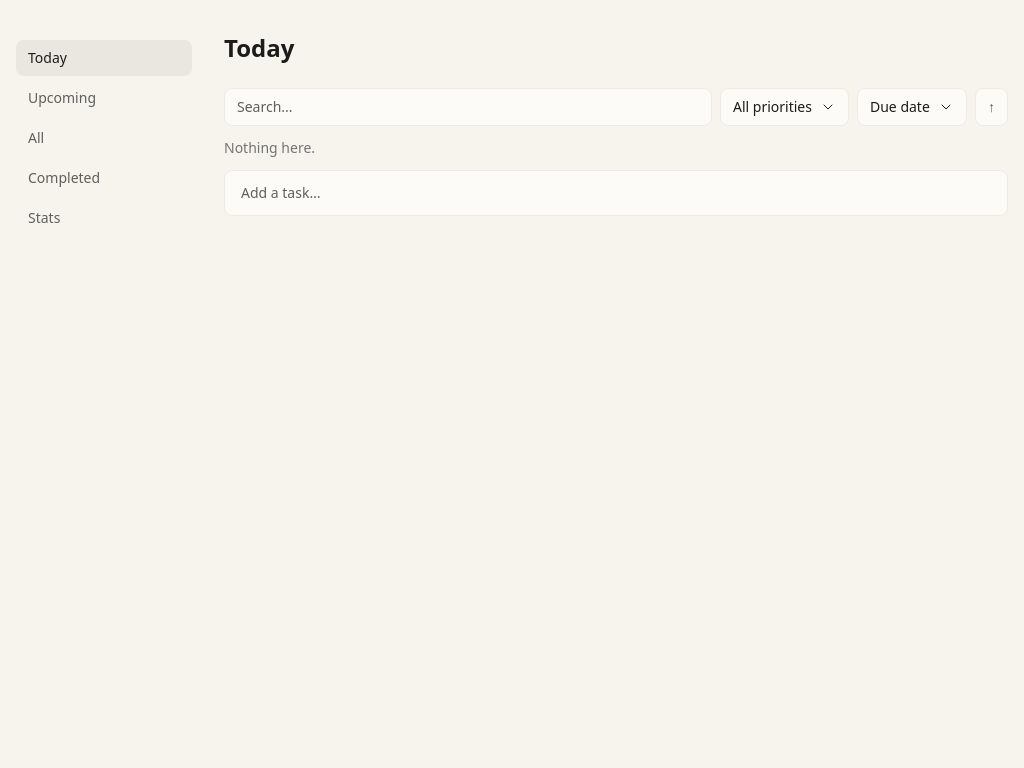
Test: Task CRUD › toggle → completed task moves to Completed view
# Navigate to All view and wait for the task
Click the button "All" at (104, 138), box 16,120 -> 192,156
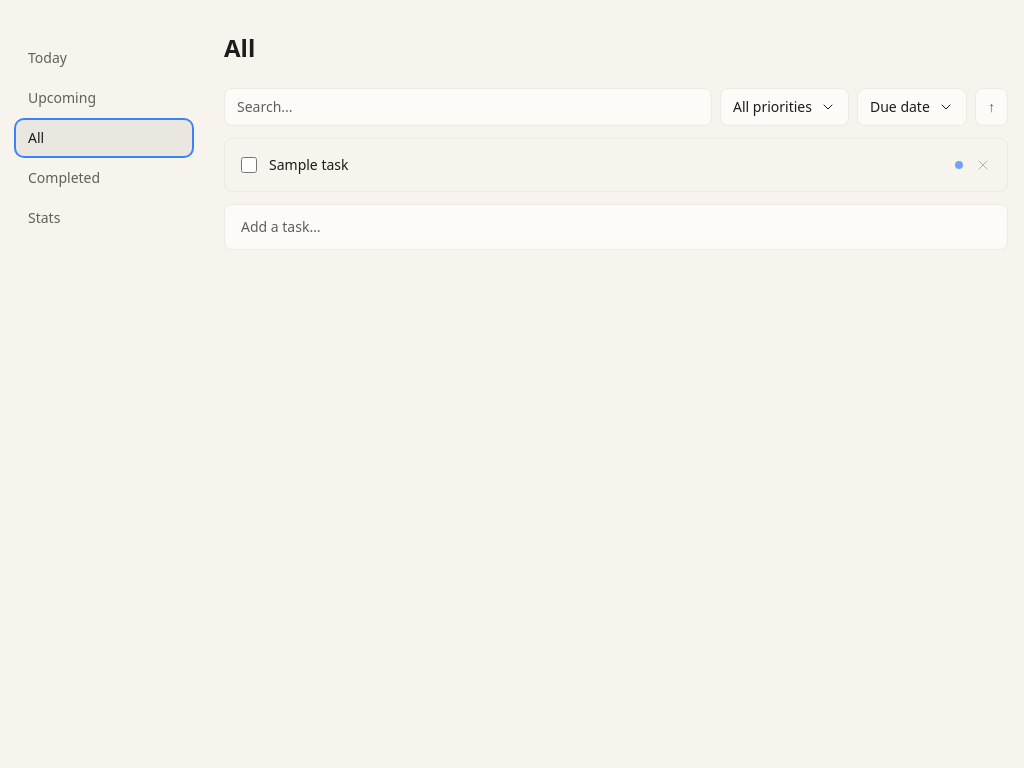
Click the checkbox named "sample task" at (249, 165), box 241,157 -> 257,173
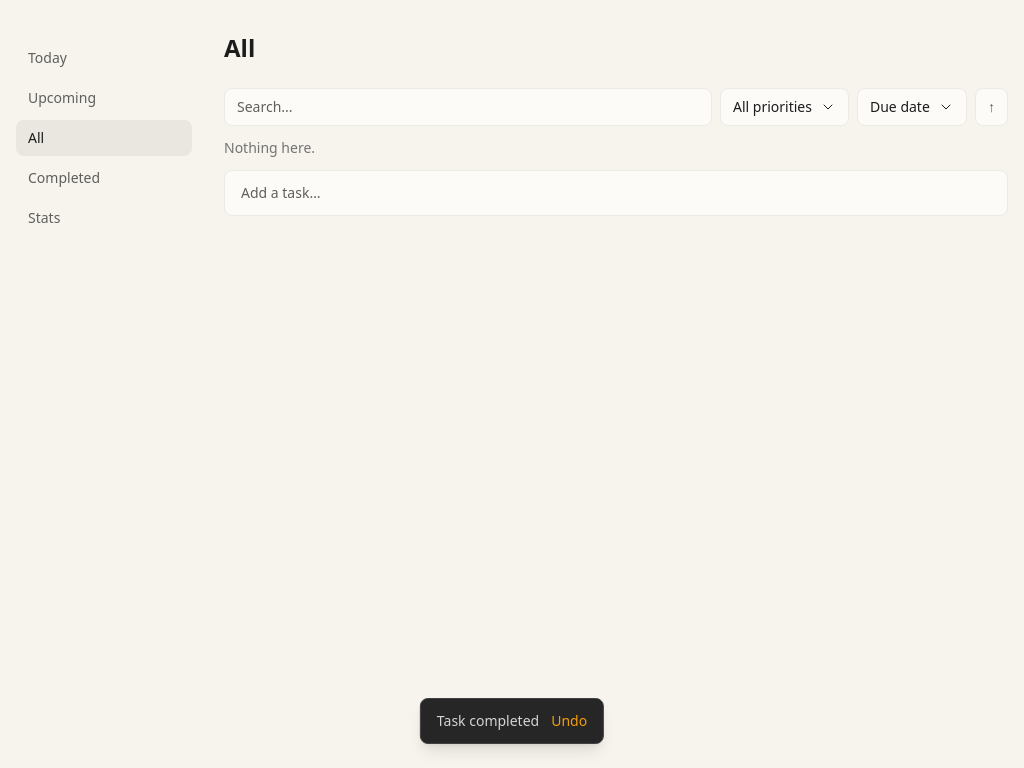
# Navigate to Completed view
Click the button "Completed" at (104, 178), box 16,160 -> 192,196
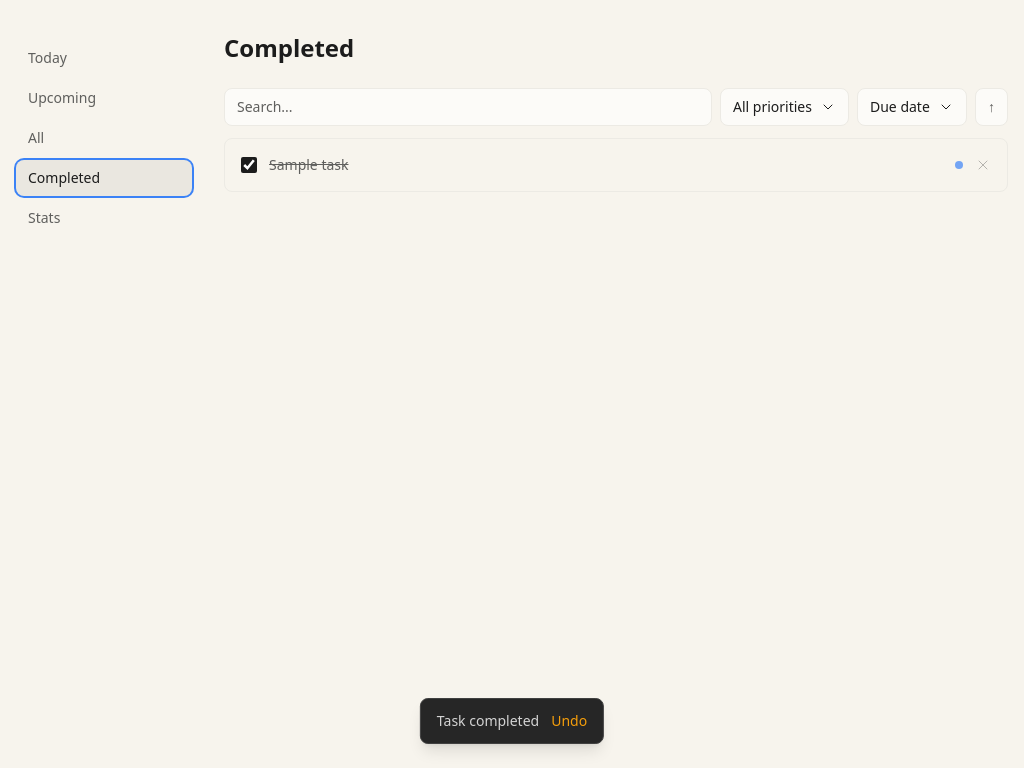
Result: the button "Sample task" is shown at 269,155 -> 943,175
